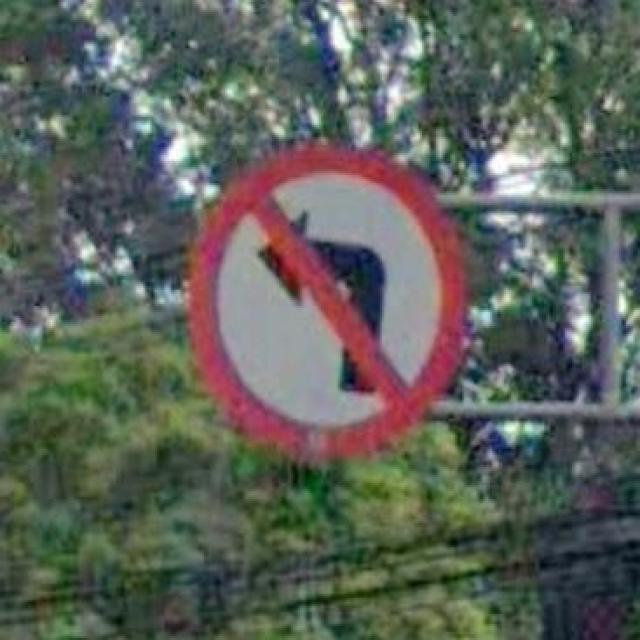traffic sign: (190, 149, 466, 463)
